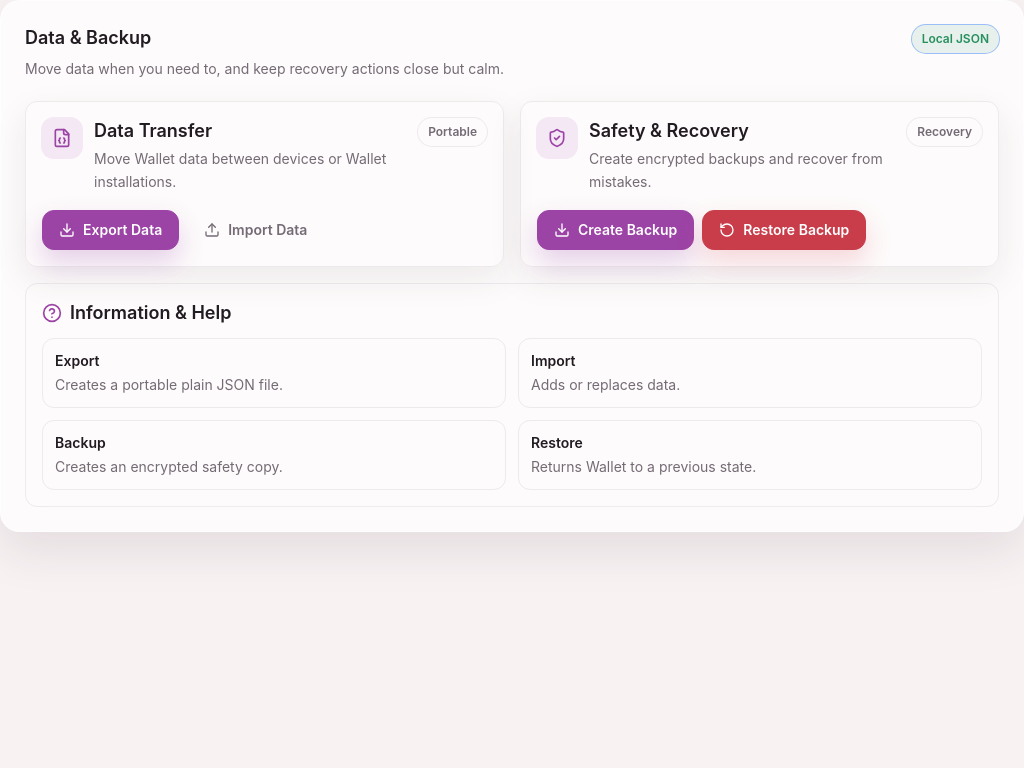
Test: backup error shows error notification
Click the button "Create Backup".
click(616, 230)  # box [537, 210, 694, 250]
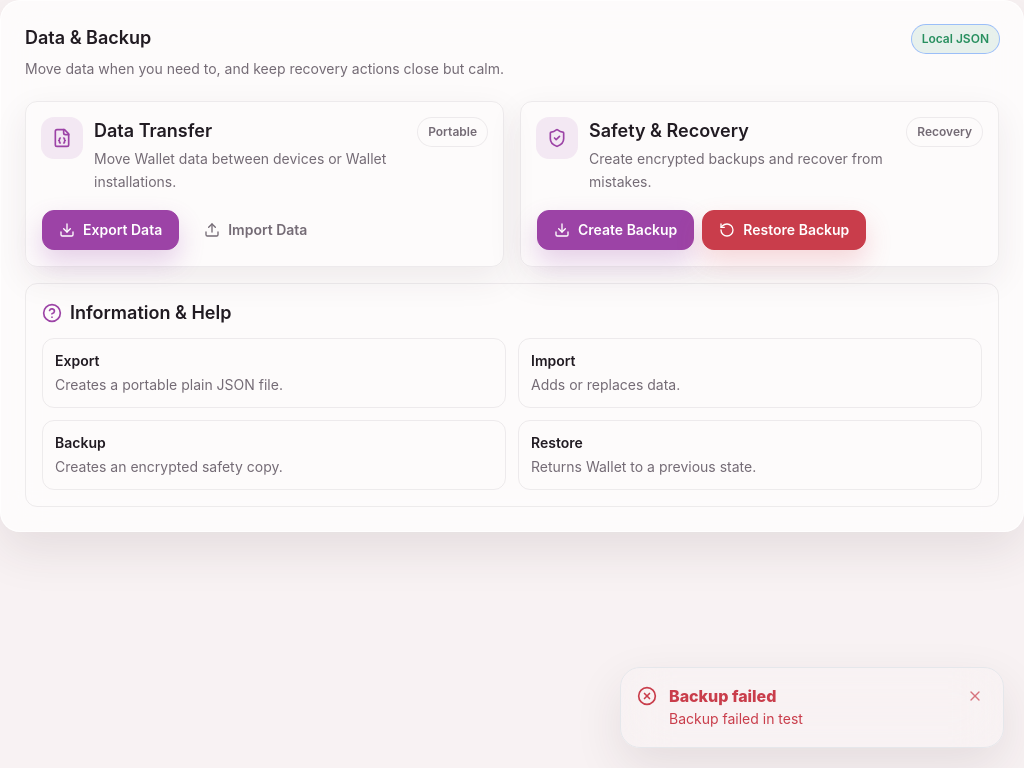
Expected: the text "Backup failed" is shown, [669, 686, 776, 706]
Expected: the text "Backup failed in test" is shown, [669, 710, 803, 727]
